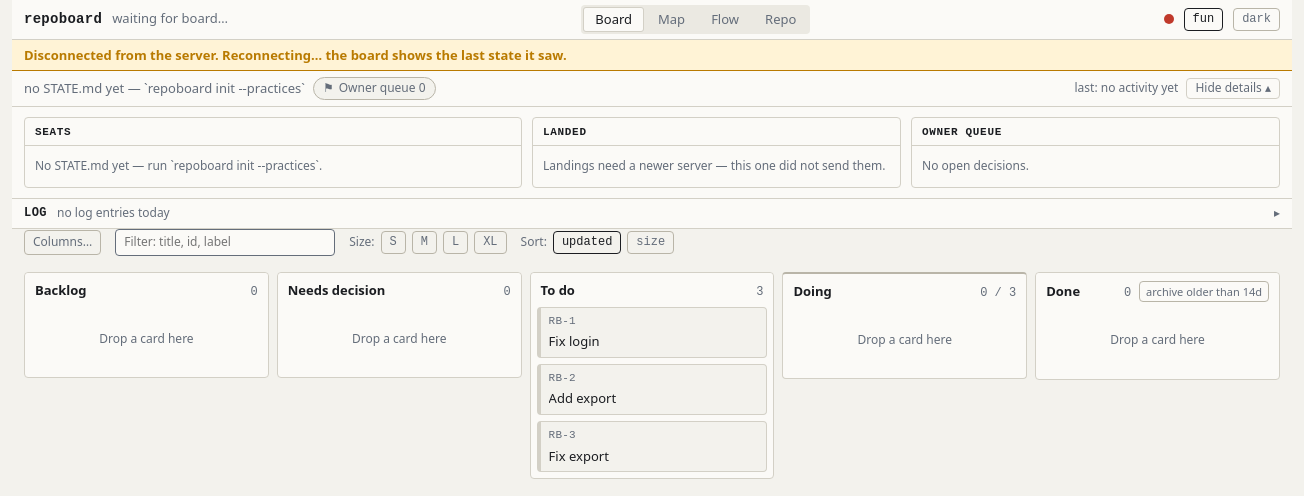
Scenario: BoardTools: search box › typing narrows the DOM to matching cards and shows "n of m cards"; Escape restores all
Type "fix" into the search field with test id "board-search".
click(225, 242); type("fix")  # box [115,229,335,256]
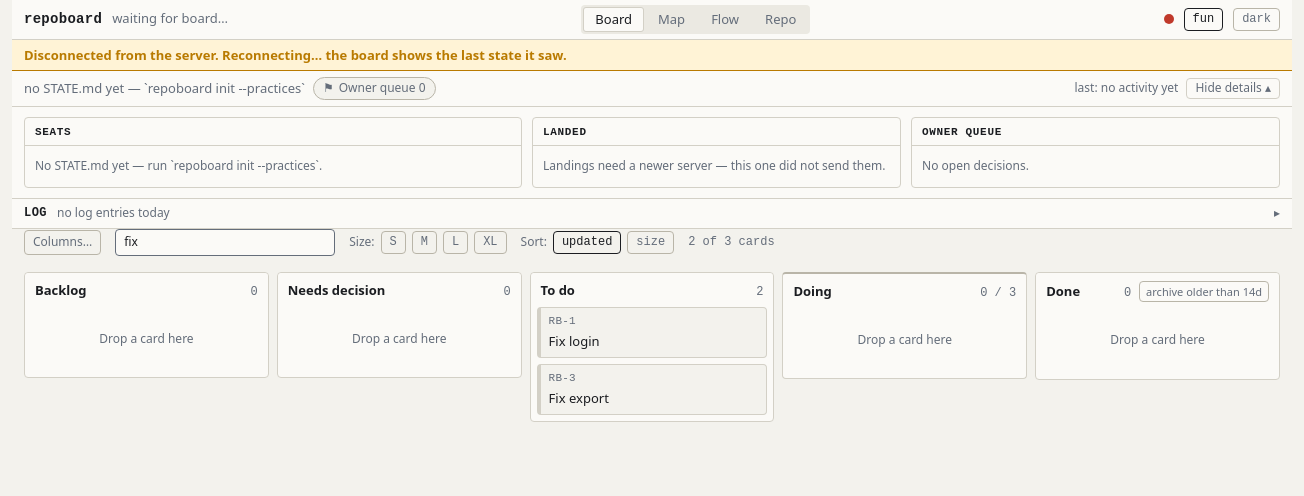
Check: the button with test id "card-RB-1" is shown, box [537,307,767,358]
Check: the text "2 of 3 cards" is shown, box [688,234,775,251]
Check: the button with test id "card-RB-2" is gone
Press Escape in the search field with test id "board-search", box [115,229,335,256]
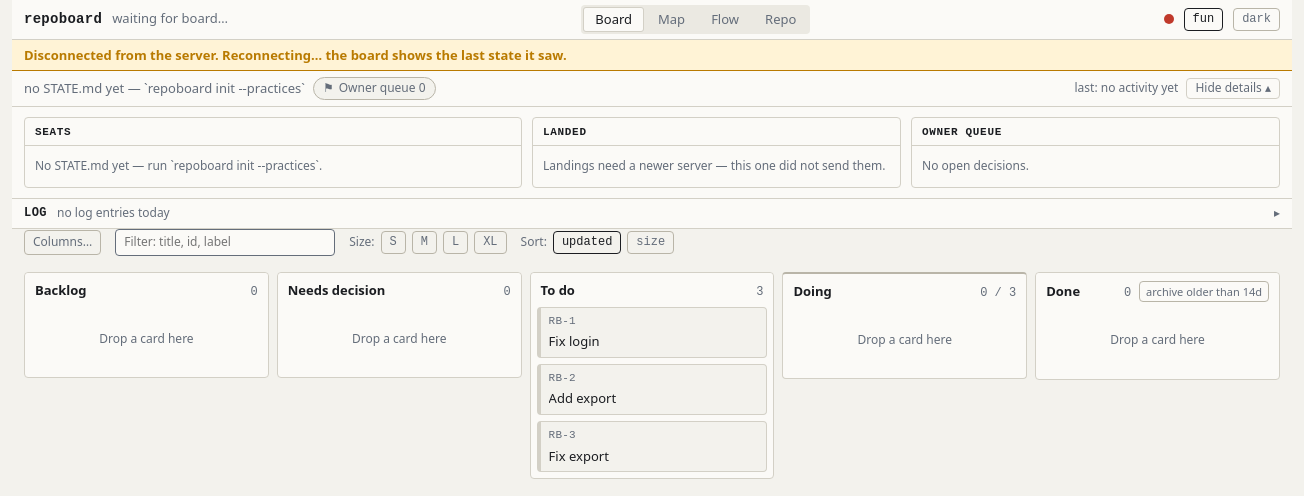
Check: the search field with test id "board-search" is empty, box [115,229,335,256]
Check: the text "of 3 cards" is gone
Check: the button with test id "card-RB-2" is shown, box [537,364,767,415]
